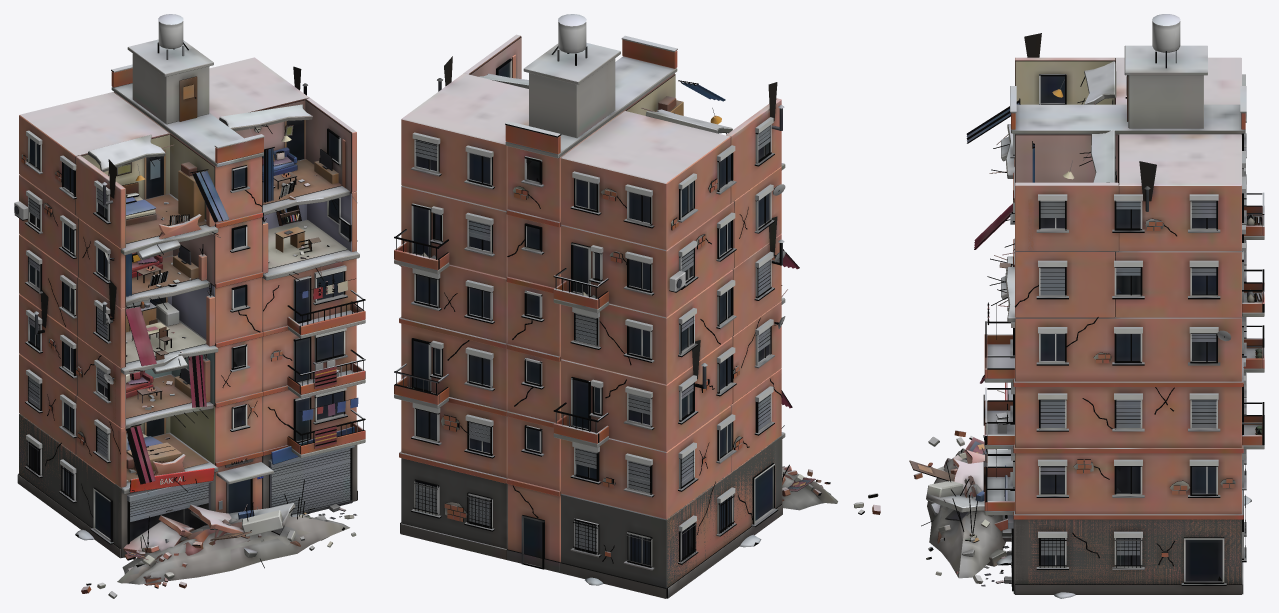
The model's file is bld_cut_facade.glb.
The picture shows the model from 3 angles, left to right: view 1: azimuth 30°, elevation 25°; view 2: azimuth 150°, elevation 25°; view 3: azimuth 270°, elevation 25°; orthographic projection. The views are drawn at different scales.
Visible parts, largest first — view 1: bld_cut_facade; view 2: bld_cut_facade; view 3: bld_cut_facade.
Boxes of the visible parts, x1=… form: bld_cut_facade: x1=14, y1=14, x2=365, y2=598; bld_cut_facade: x1=394, y1=14, x2=880, y2=598; bld_cut_facade: x1=909, y1=14, x2=1264, y2=598.
Bounding box in the file's own units: 15.78 × 22.83 × 14.09.
Materials: 1 (1 with a texture image).
